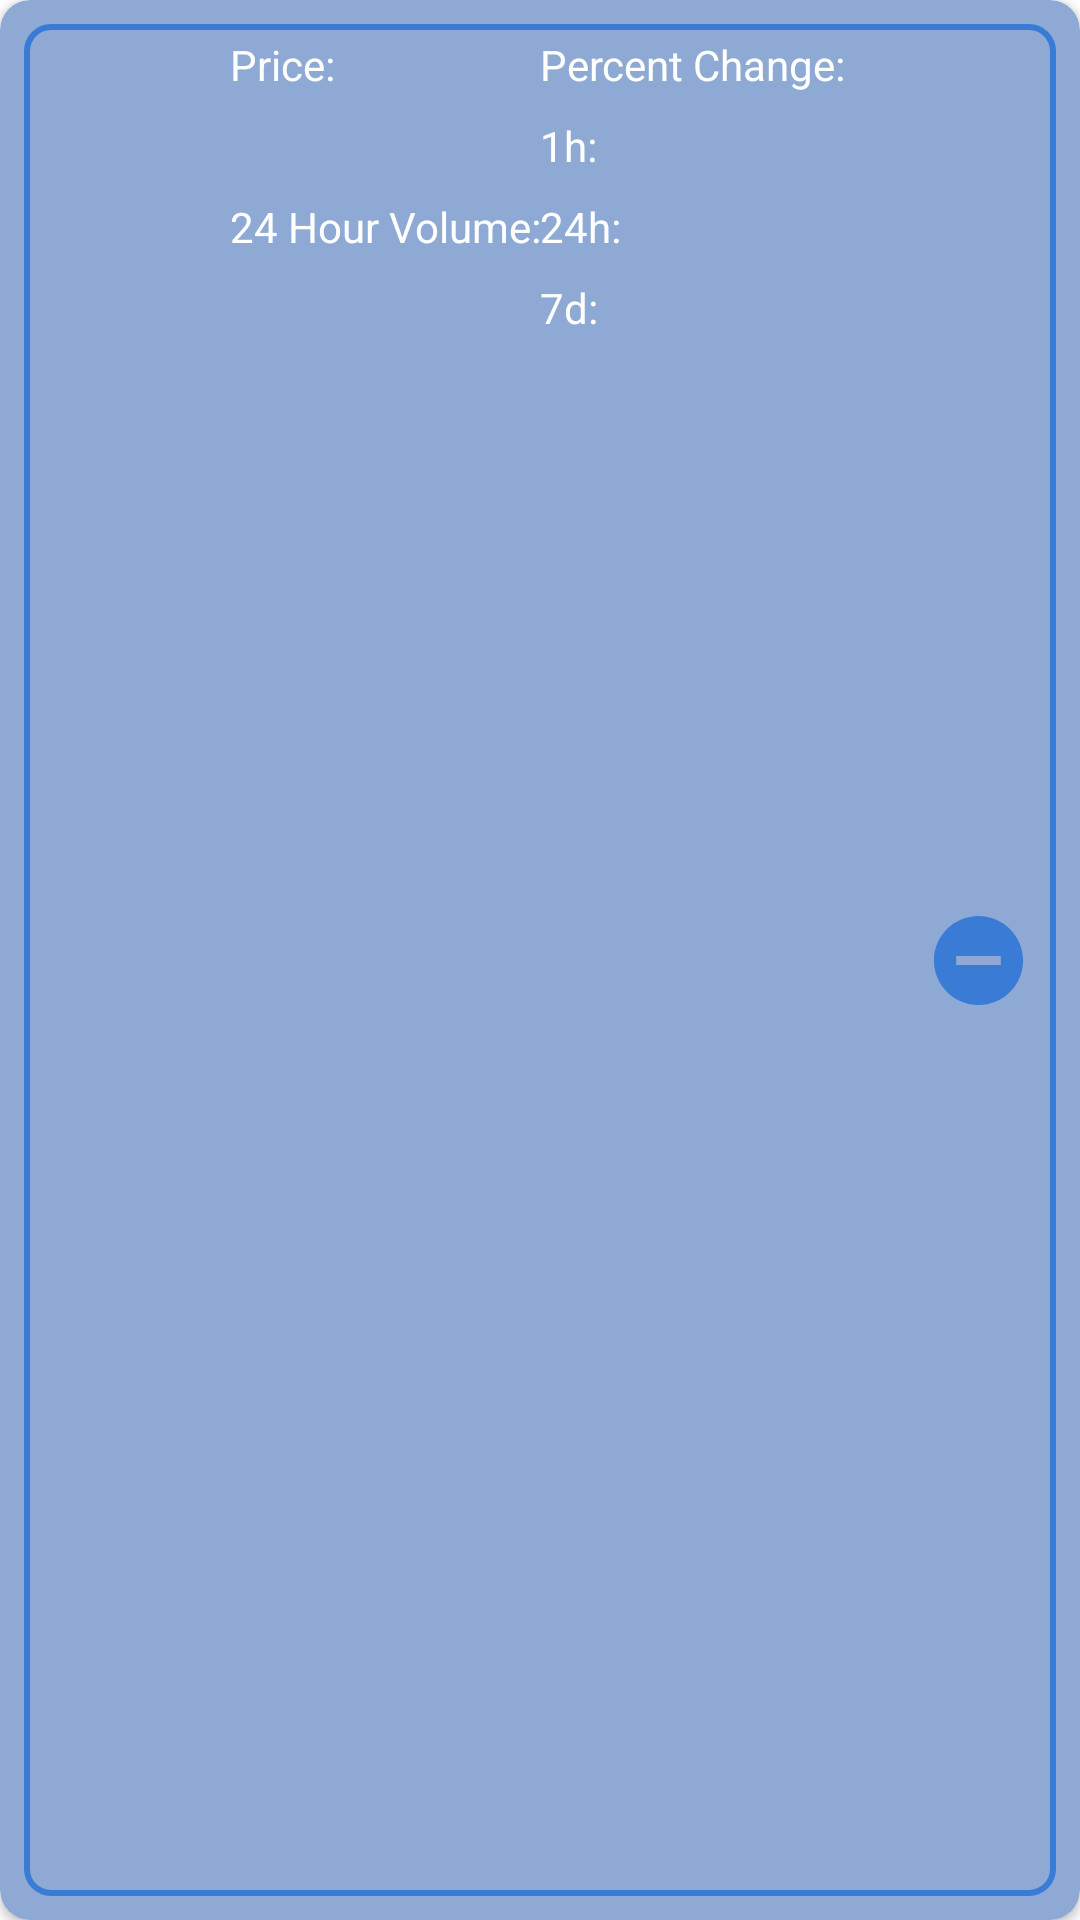

Icon bounding boxes for this 1080×1920 phone screenshot, format [x1,y1,x2,y2]:
Removes from list: [934,916,1023,1005]
